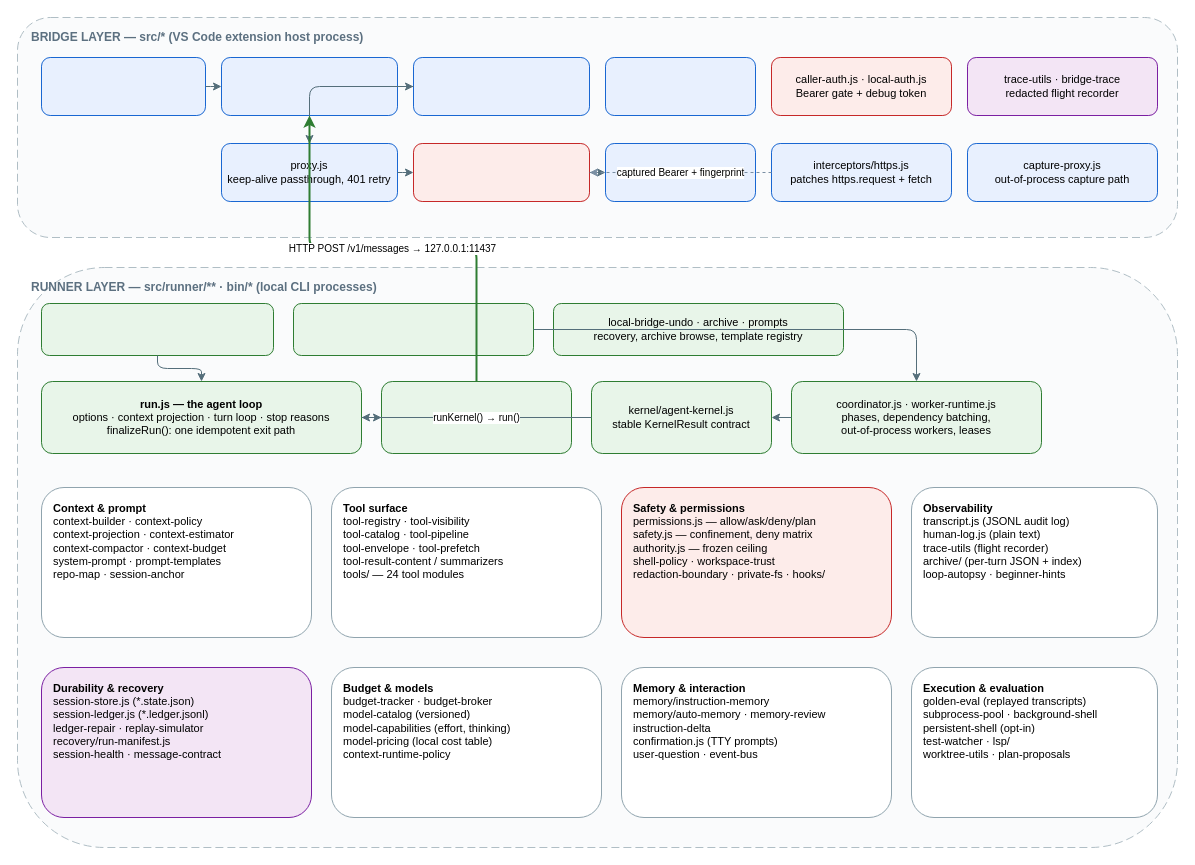
This 1195x865 diagram has some shape labels left out. Each missing label, with the centre of its shape:
"bin/local-bridge-coordinator.js objective, phases, ceilings" goes at point 413,329.
"bin/local-bridge-runner.js agent-loop CLI · flag parsing" goes at point 157,329.
"credentials.js priority chain + cache watermark" goes at point 501,172.
"extension.js activation, status bar, commands" goes at point 123,86.
"fingerprint.js stable vs request headers" goes at point 680,172.
"handlers/anthropic.js body read, default model, count_tokens" goes at point 501,86.
"handlers/debug.js token-gated diagnostics" goes at point 680,86.
"model-client.js buffered + SSE clients retry · Retry-After" goes at point 476,417.
"server.js router, Origin allowlist, caller auth" goes at point 309,86.
